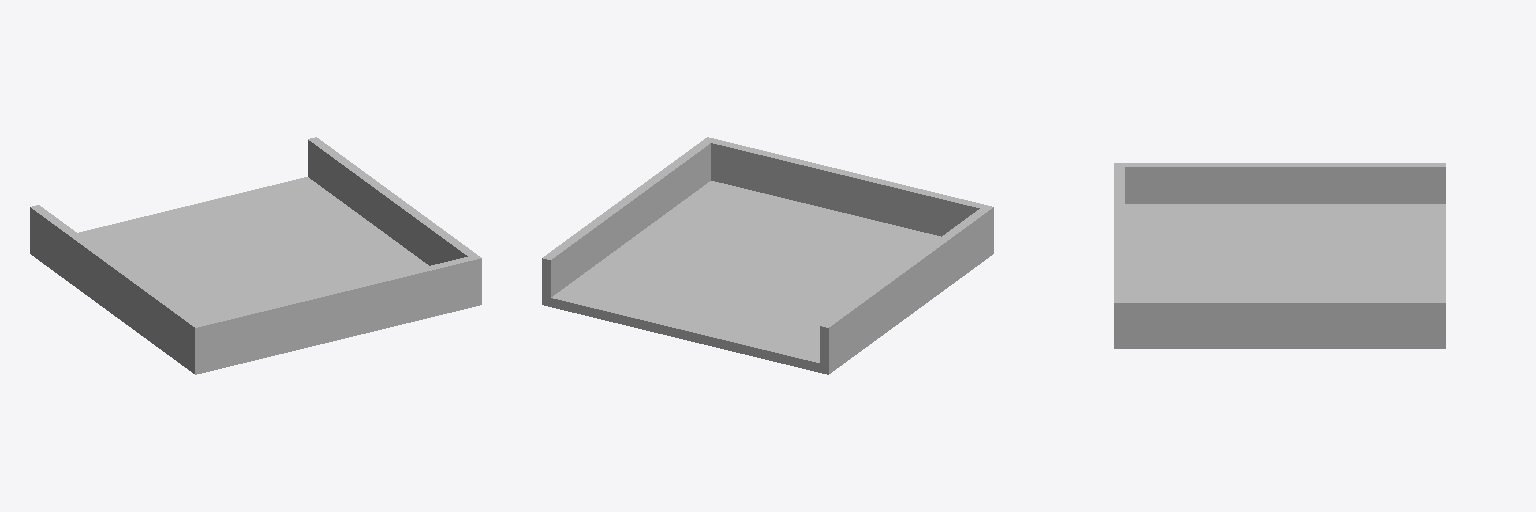
Rendered from Blockers Bone Map 2-12.obj.
3 renders of one model, left to right at view 1: azimuth 30°, elevation 25°; view 2: azimuth 150°, elevation 25°; view 3: azimuth 270°, elevation 25°, orthographic.
Visible parts, largest first — view 1: object 1; view 2: object 1; view 3: object 1.
Boxes of the visible parts, x1=… form: object 1: x1=30, y1=137, x2=481, y2=374; object 1: x1=542, y1=137, x2=993, y2=374; object 1: x1=1114, y1=163, x2=1445, y2=348.
Size of the model in its own units: 3.2 by 0.5 by 3.2.